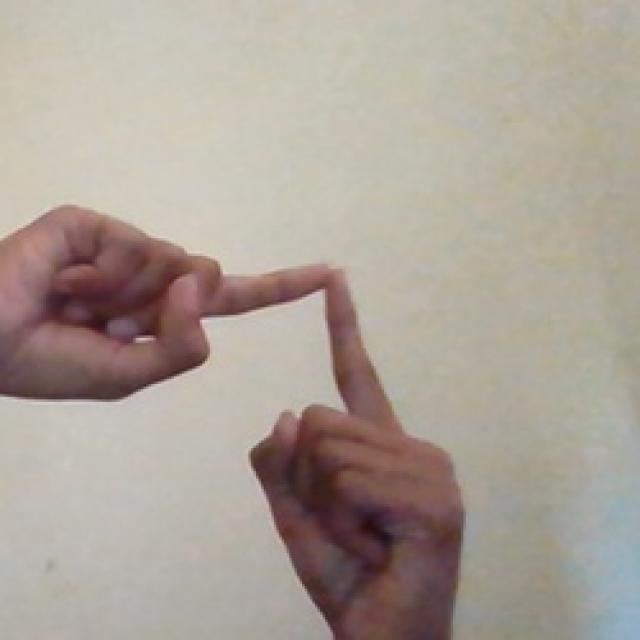Alphabet-E: (1, 207, 466, 640)
